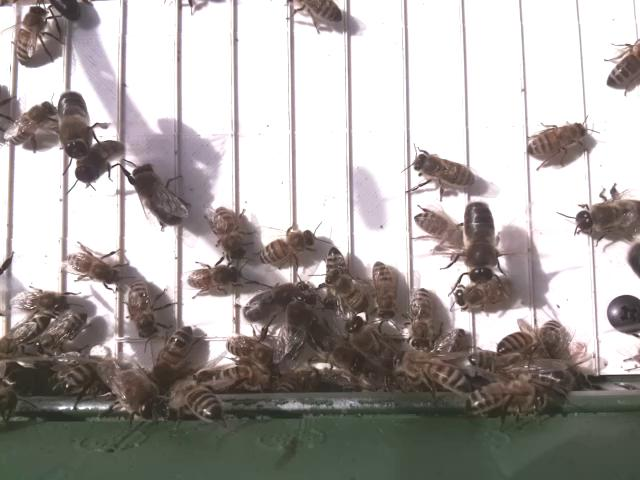Drone: (129, 158, 186, 231), (462, 197, 500, 287), (240, 281, 312, 324), (56, 86, 95, 159), (572, 197, 640, 235)
Worker: (11, 4, 54, 68), (410, 151, 477, 191), (522, 121, 590, 159), (5, 100, 56, 150), (152, 324, 198, 379), (257, 228, 320, 265), (8, 286, 78, 319), (62, 250, 124, 286), (210, 203, 247, 263), (126, 276, 158, 340), (404, 283, 434, 349), (370, 258, 395, 327), (185, 263, 245, 291), (603, 46, 640, 88)
